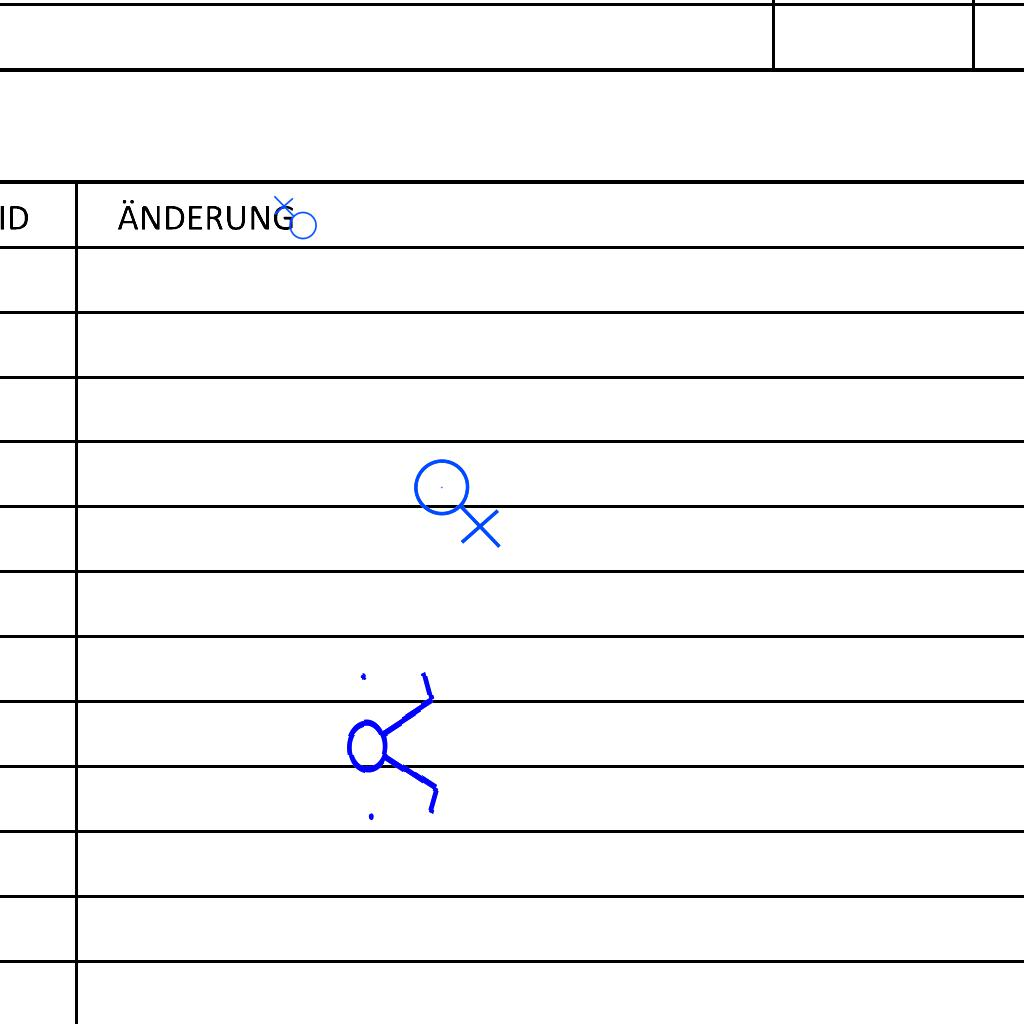Elektroanschluss_allgemein_230V_Geraeteanschlussdose_230V: (412, 450, 506, 549), (271, 195, 318, 244)
Serienschalter: (340, 657, 446, 831)
